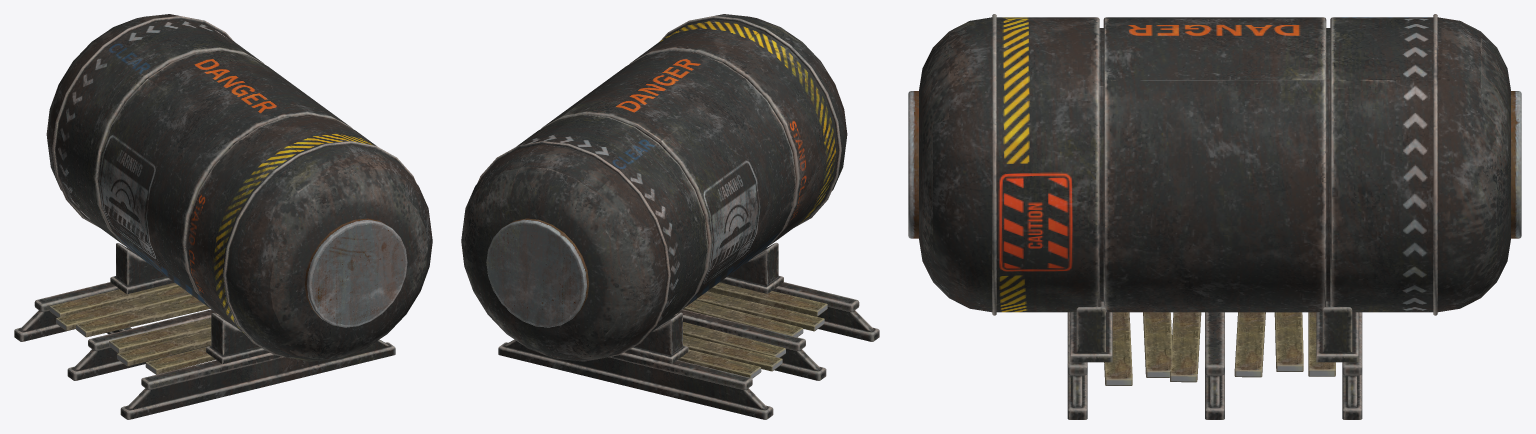
File: SM_Industrial_Props_LP_pCylinder7.fbx
3 views of the same model, side by side, from view 1: azimuth 30°, elevation 25°; view 2: azimuth 150°, elevation 25°; view 3: azimuth 270°, elevation 25° (orthographic). The views are drawn at different scales.
Visible parts, largest first — view 1: SM_Industrial_Props_LP_pCylinder7_LOD0; view 2: SM_Industrial_Props_LP_pCylinder7_LOD0; view 3: SM_Industrial_Props_LP_pCylinder7_LOD0.
Part boxes in pixels (x1,y1,x2,y2): SM_Industrial_Props_LP_pCylinder7_LOD0: (14, 14, 432, 419); SM_Industrial_Props_LP_pCylinder7_LOD0: (461, 14, 879, 419); SM_Industrial_Props_LP_pCylinder7_LOD0: (908, 14, 1521, 419).
Size of the model in its own units: 272 by 414 by 246.
Materials: 2 (2 with a texture image).
